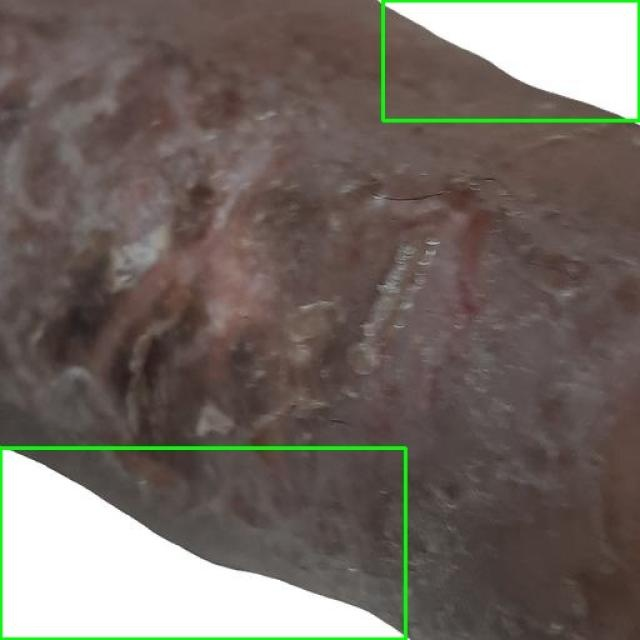Eczema: (0, 448, 405, 639), (382, 0, 639, 121)
